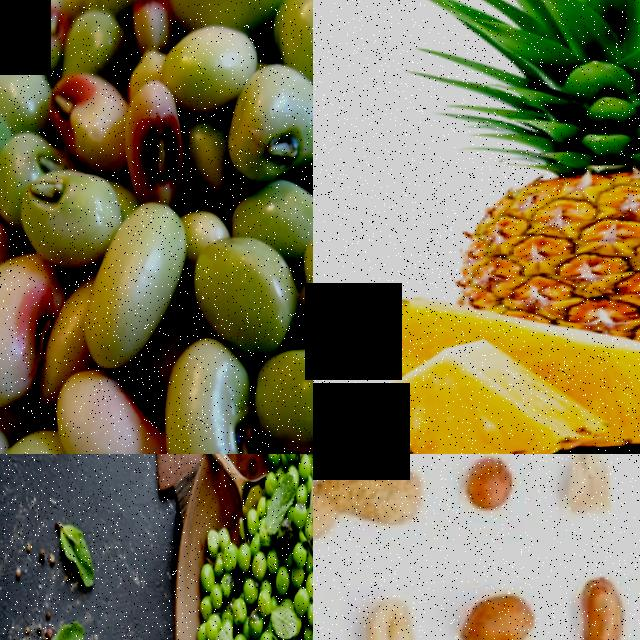peanuts: (313, 454, 419, 559), (446, 584, 535, 640), (567, 575, 626, 640), (458, 455, 514, 520)
peas: (190, 545, 313, 640)
pineapple: (429, 95, 640, 336), (313, 325, 619, 454)
